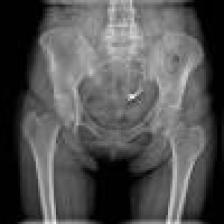impacted-fracture: (15, 0, 216, 224)
